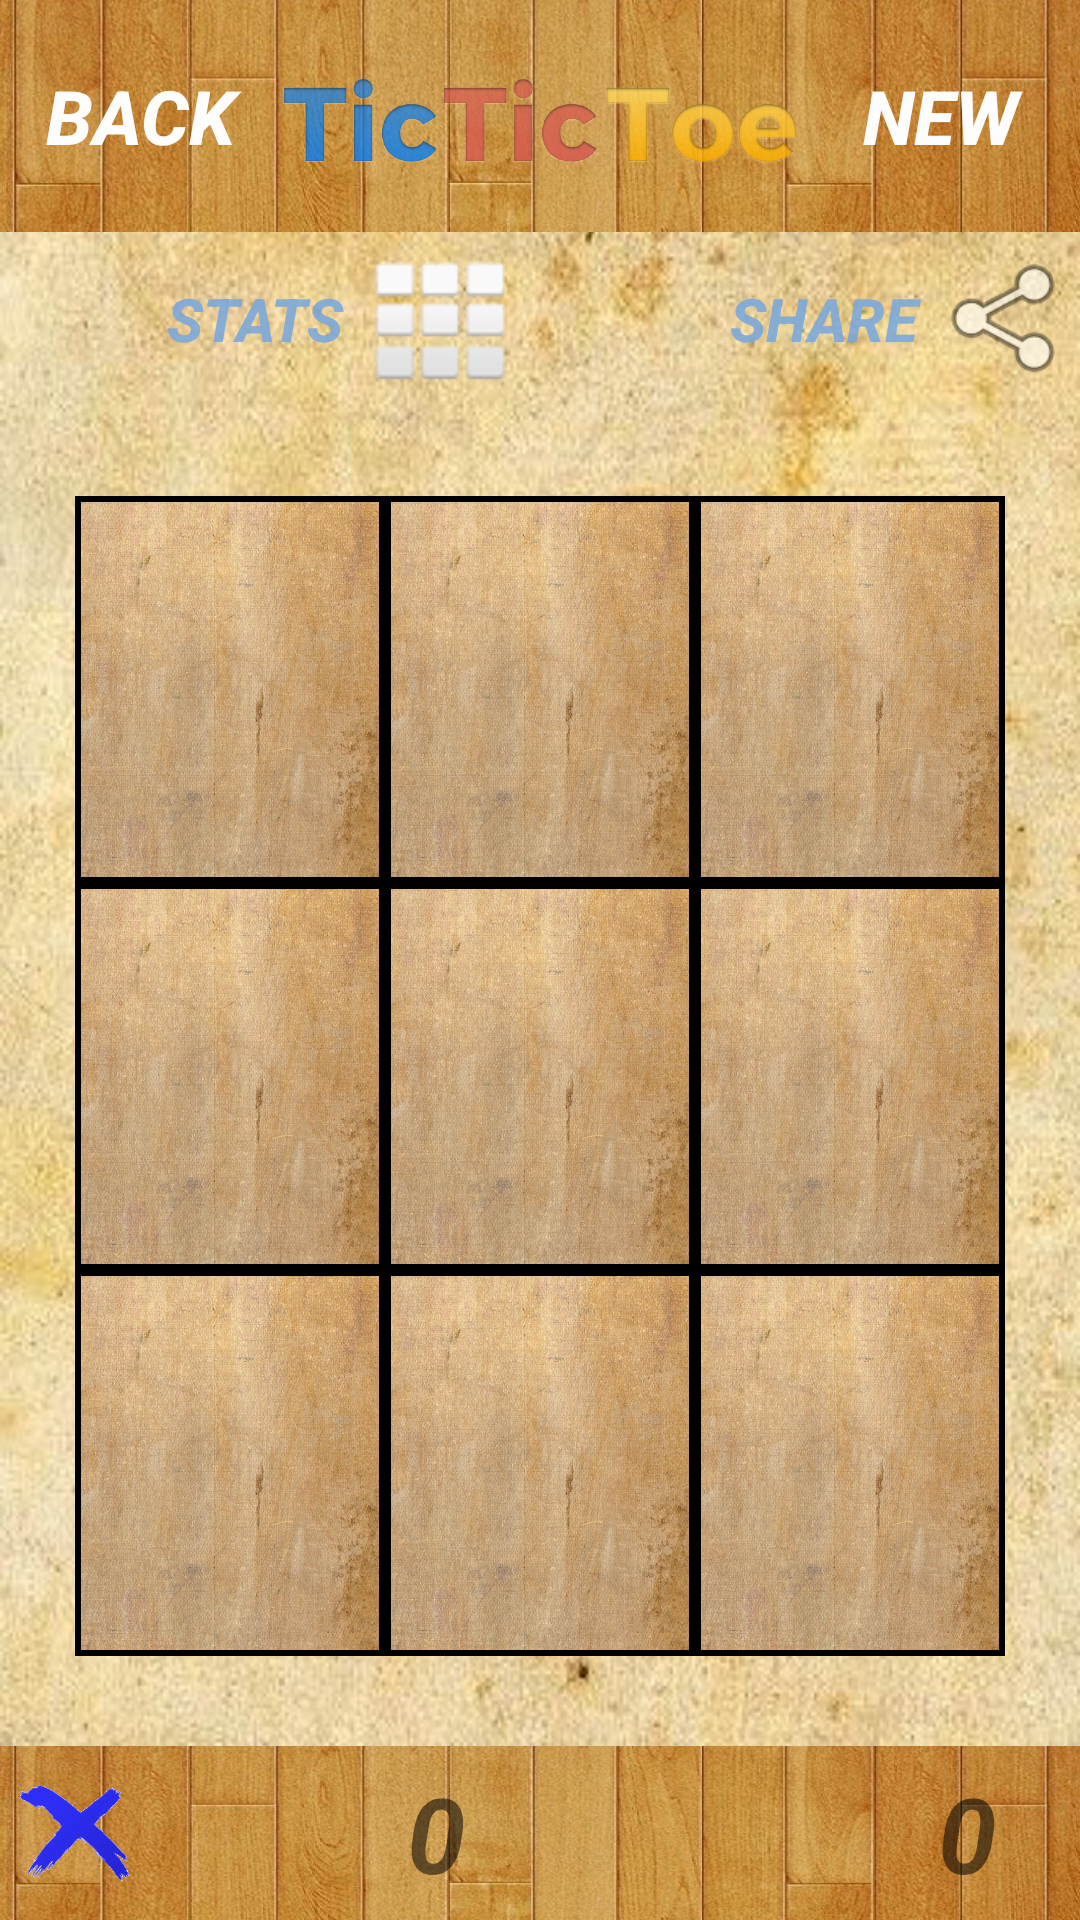

Screen size 1080*1920. Icon name, then its box in pixels as (x1, y1, x2, y2):
dialer: (376, 235, 509, 406)
xplayer: (9, 1746, 141, 1920)
